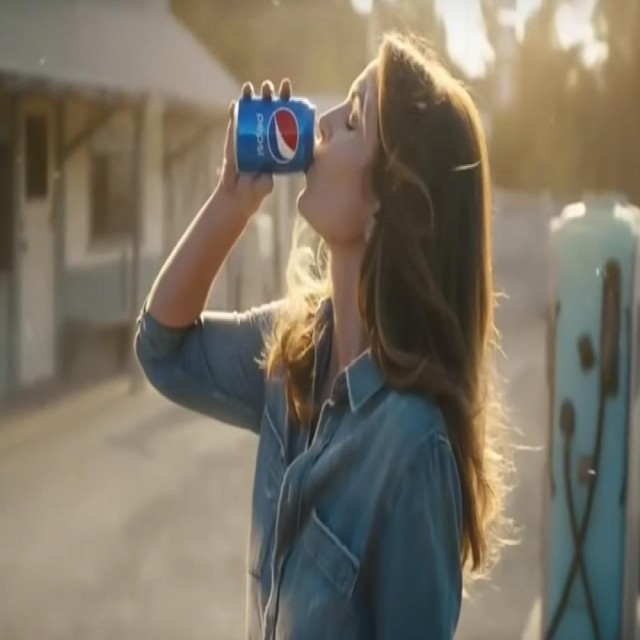pepsi: (266, 102, 303, 167)
